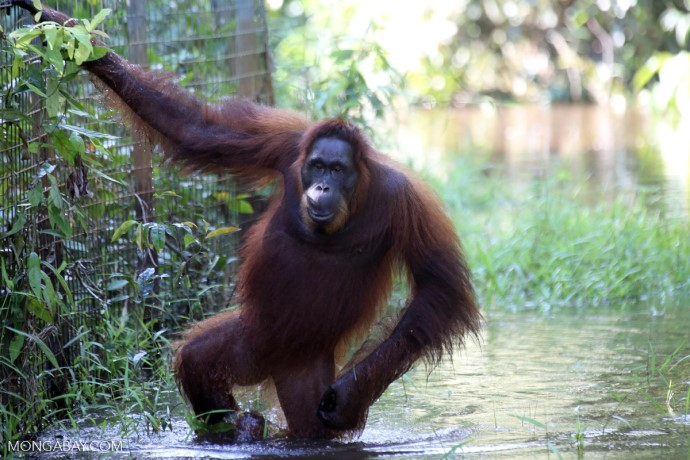Orangutan: (146, 85, 469, 441)
